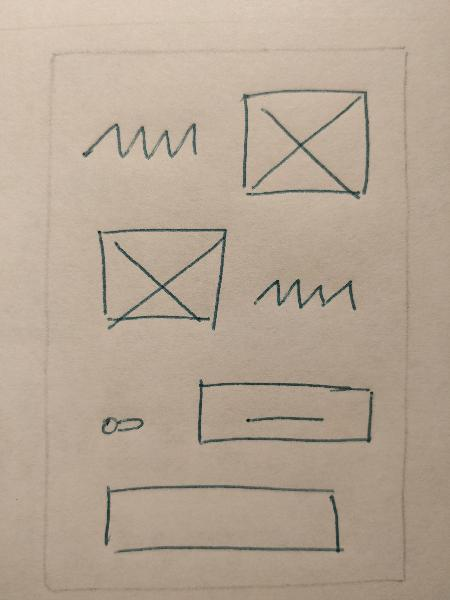button: (187, 363, 387, 457)
image: (86, 215, 229, 337), (233, 83, 376, 204)
switch: (86, 404, 157, 441)
text: (72, 110, 216, 171), (241, 265, 372, 322)
text_input: (90, 472, 353, 561)
